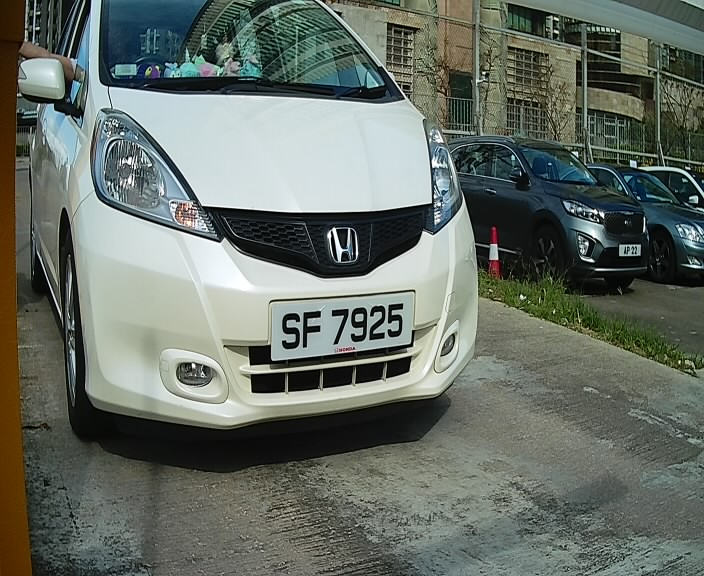Car: (21, 2, 512, 466)
License Plate: (266, 279, 421, 365)
